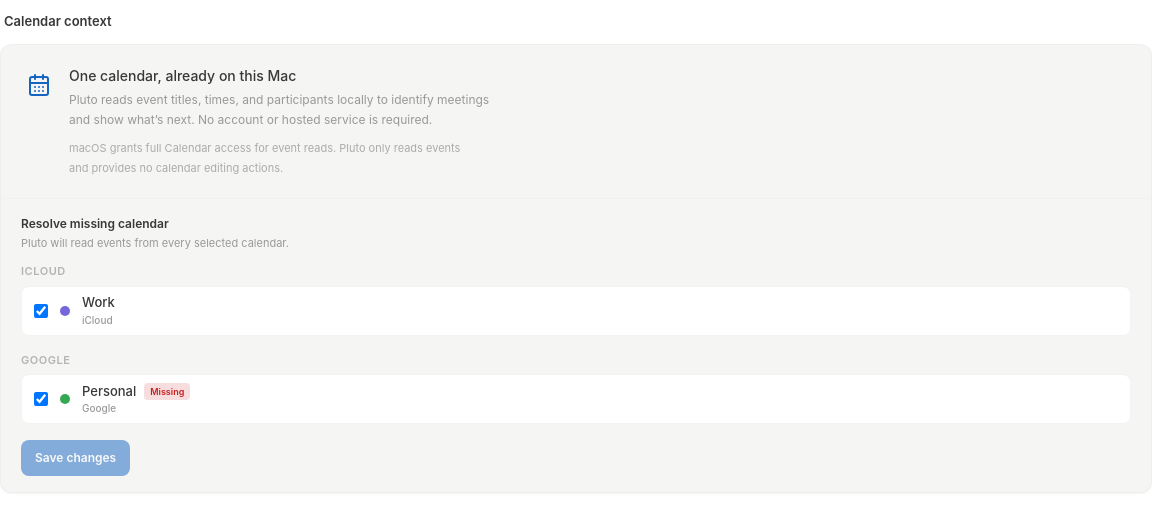
Test: CalendarSettings › shows missing selected calendar requiring explicit user resolution
The width and height of the screenshot is (1152, 510).
Later steps or results of the test are not shown.
Expected: the button with aria-label "Save changes" is disabled, 21,440 -> 130,476
Click the checkbox labelled "Personal Missing Google" at [41, 399], box 34,392 -> 48,406
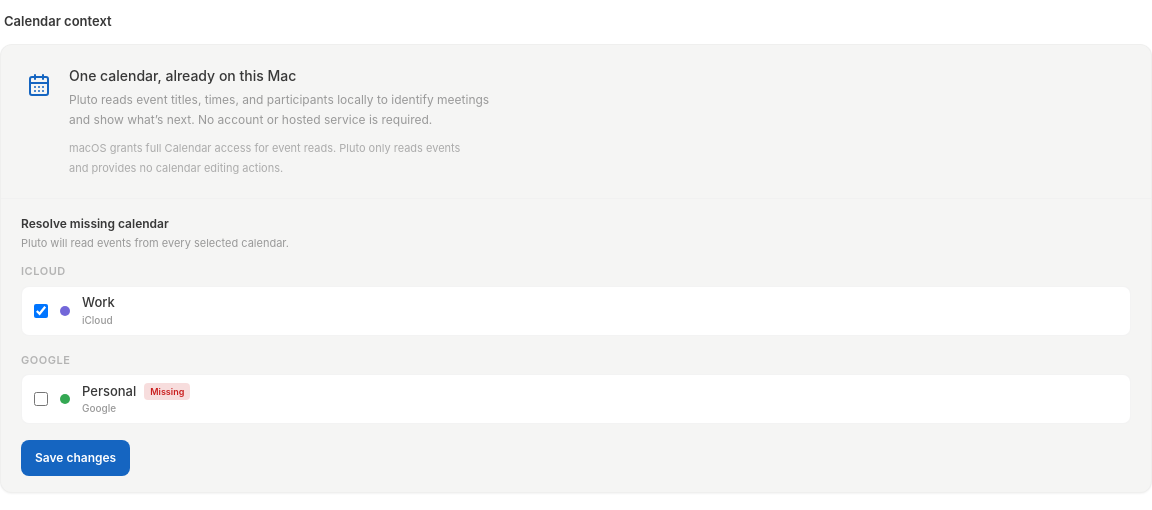
Now the button with aria-label "Save changes" is enabled, box 21,440 -> 130,476
